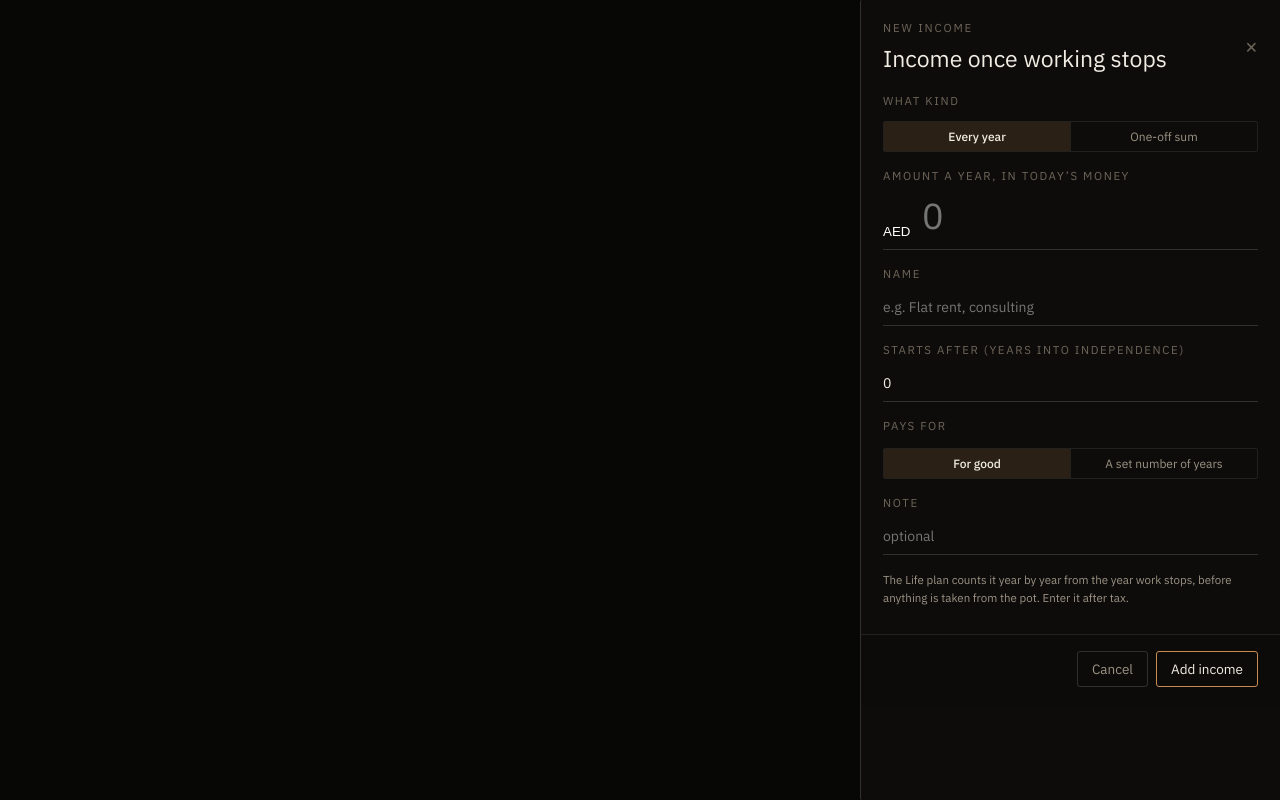
Scenario: IncomeEditor: an amount with no rate to AED › warns that a rupee amount is not counted until a rate is set
Select "INR" in the dropdown named "Currency" at (898,232), box [883,224,912,239]
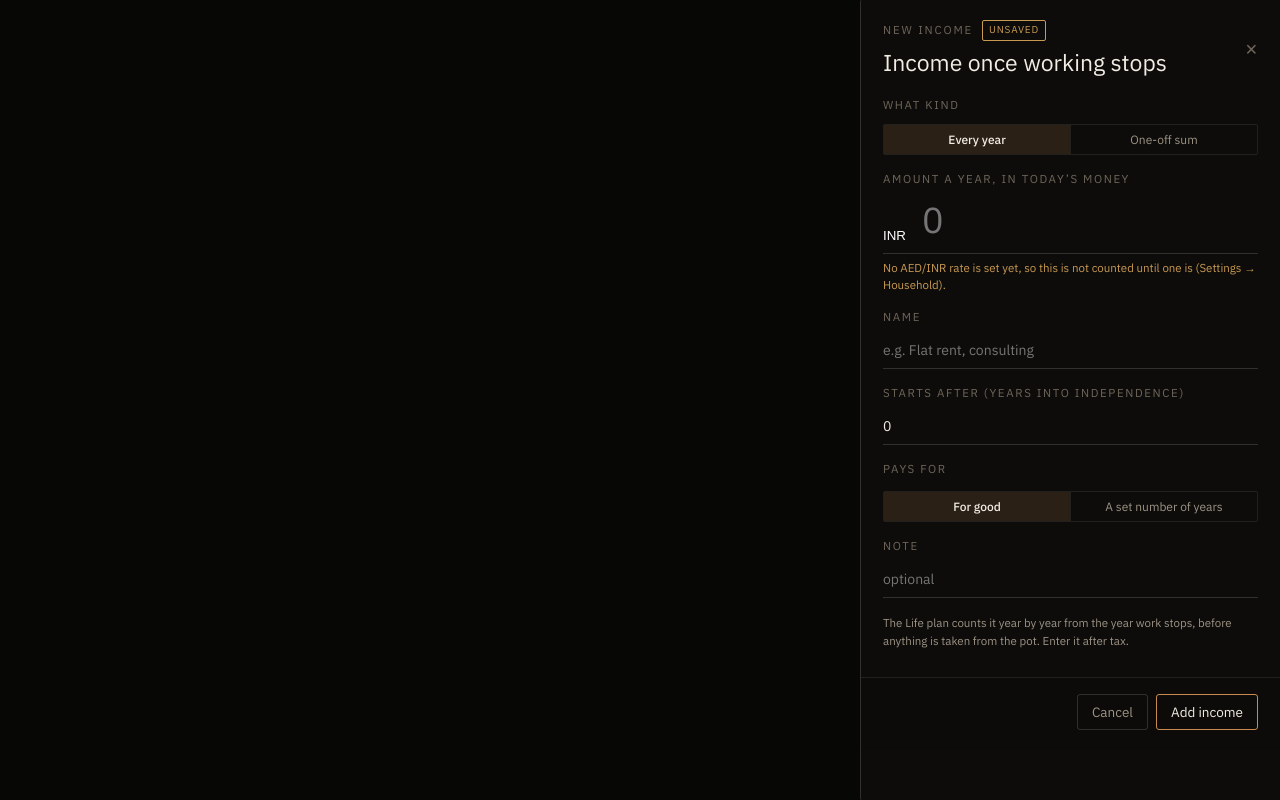
Expected: the text "No AED/INR rate is set yet, so this is not counted until one is (Settings → Household)." is shown, [883,260,1256,292]
